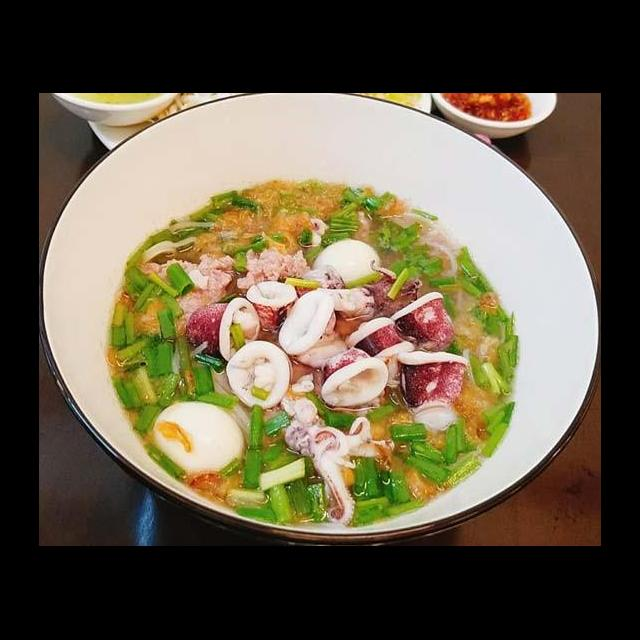muc: (278, 394, 398, 532), (343, 312, 430, 393), (181, 296, 265, 366), (392, 348, 473, 416), (223, 338, 297, 412), (384, 286, 460, 358), (316, 346, 389, 414), (275, 290, 344, 360), (358, 255, 426, 322), (241, 278, 302, 338)
thit bam: (229, 242, 315, 292)
trung: (146, 397, 248, 478), (308, 236, 387, 296)
